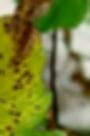Tomato Septoria leaf spot: (0, 0, 74, 136)
